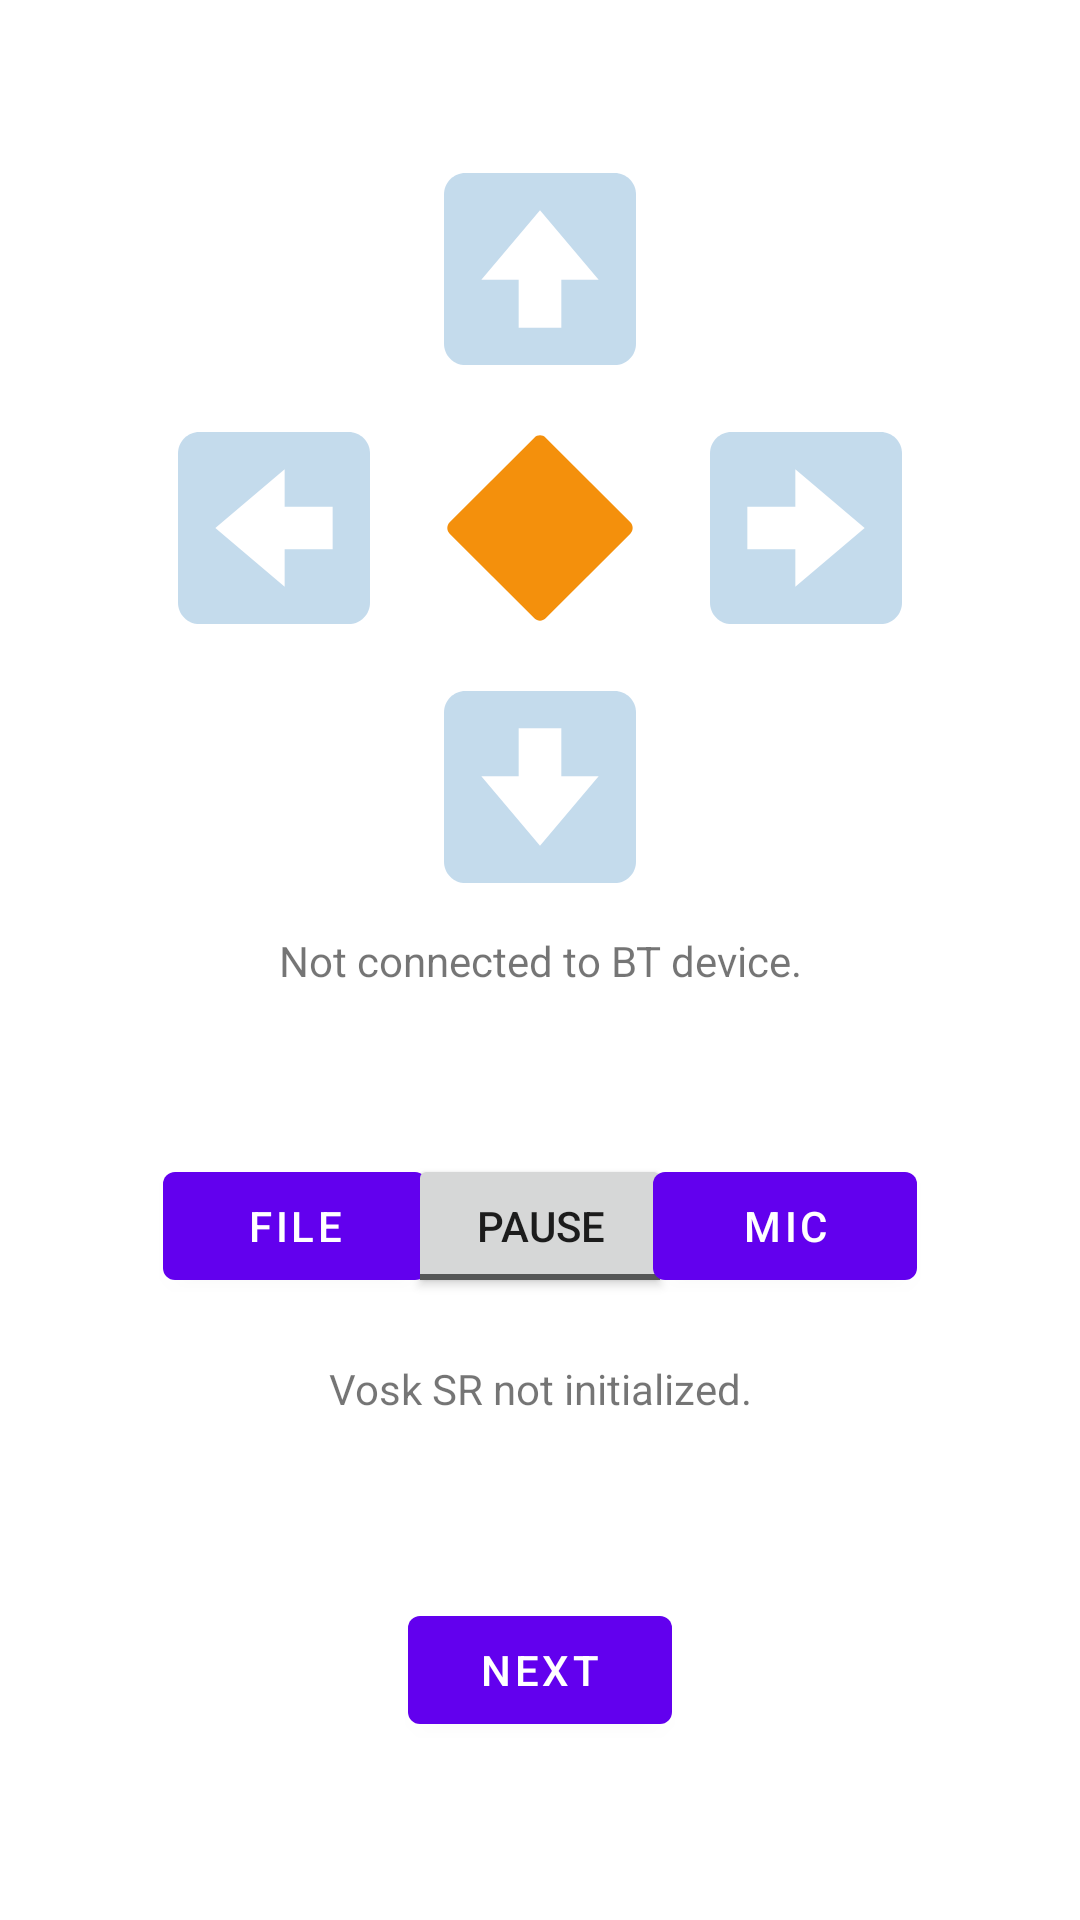

Point at icon controls on the screen. Image size 1080 x 1920, points as point (x, y).
down: point (540, 787)
left: point (274, 528)
right: point (806, 528)
